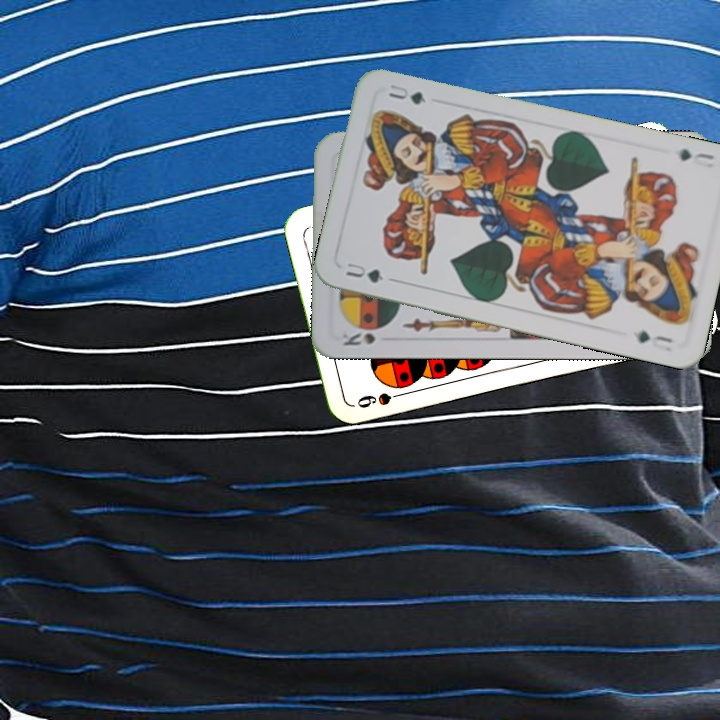GU: (342, 258, 389, 286), (674, 144, 717, 164)
S9: (353, 387, 410, 411)
SK: (336, 323, 391, 348)
